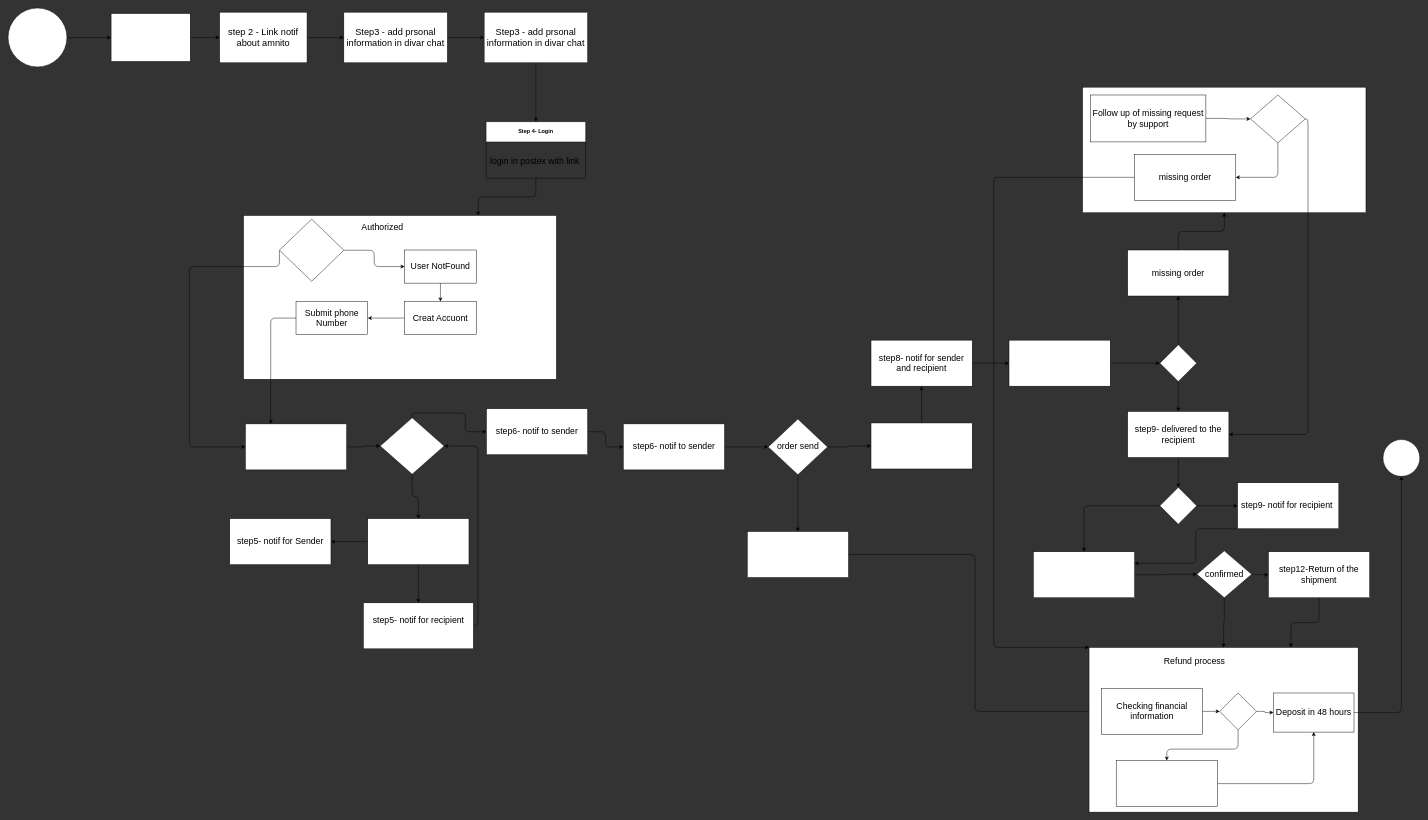
This 1428x820 diagram has some shape labels left out. Here are the shapes that lost their labels. From the top down, the centre of each, then its label:
At pixel 150 37: "Step1 - rate notif".
At pixel 1277 119: "Order Found".
At pixel 311 250: "User Found".
At pixel 1059 363: "step8- check order status".
At pixel 296 446: "step5- order".
At pixel 412 445: "Order paid".
At pixel 921 446: "step7- pickup order".
At pixel 418 541: "step5- order suspended".
At pixel 797 554: "step6- cancel order".
At pixel 1084 574: "step10- check order".
At pixel 1166 783: "Correction of information".
